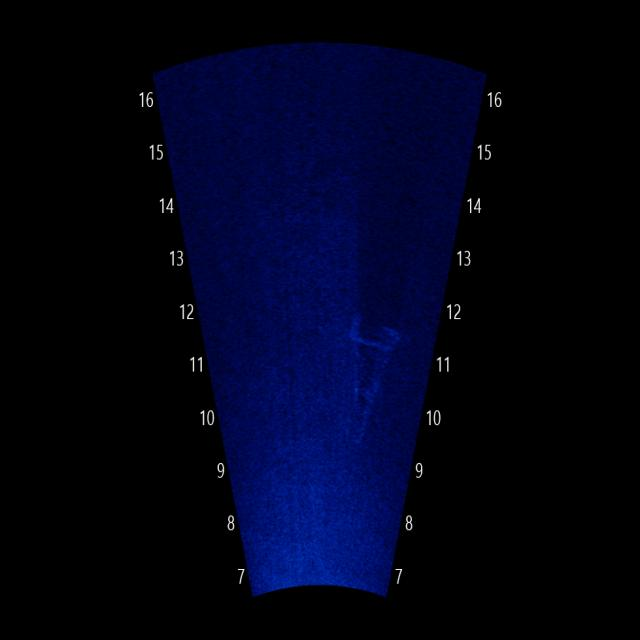triangle: (344, 307, 403, 455)
